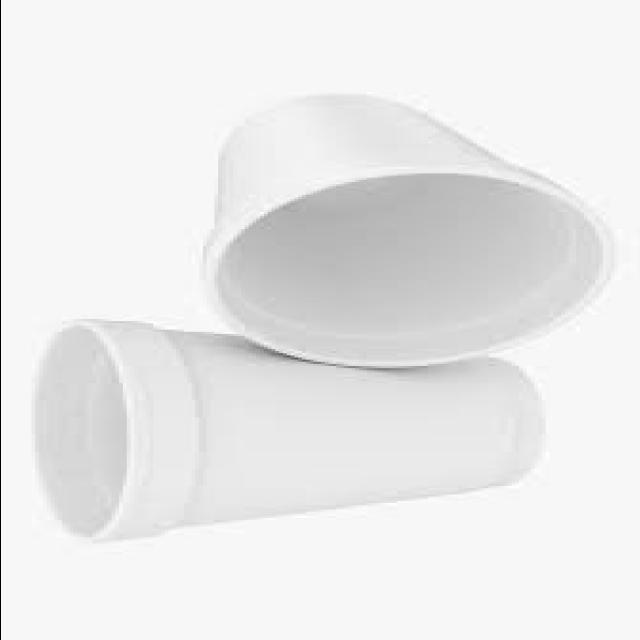styrofoam: (33, 321, 539, 540), (205, 96, 604, 367)
